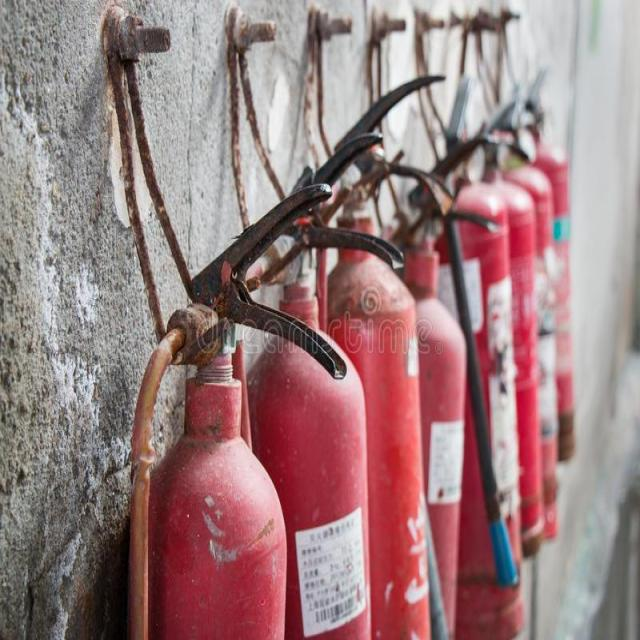fire_extinguisher: (119, 178, 349, 639), (228, 128, 407, 639), (297, 68, 456, 639), (374, 126, 509, 639), (412, 114, 528, 639)
